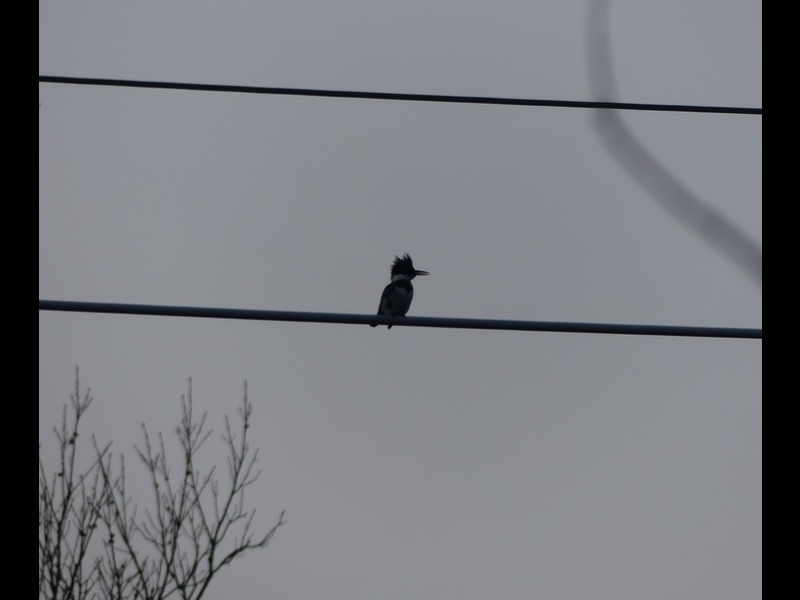kingfisher: (370, 252, 431, 330)
